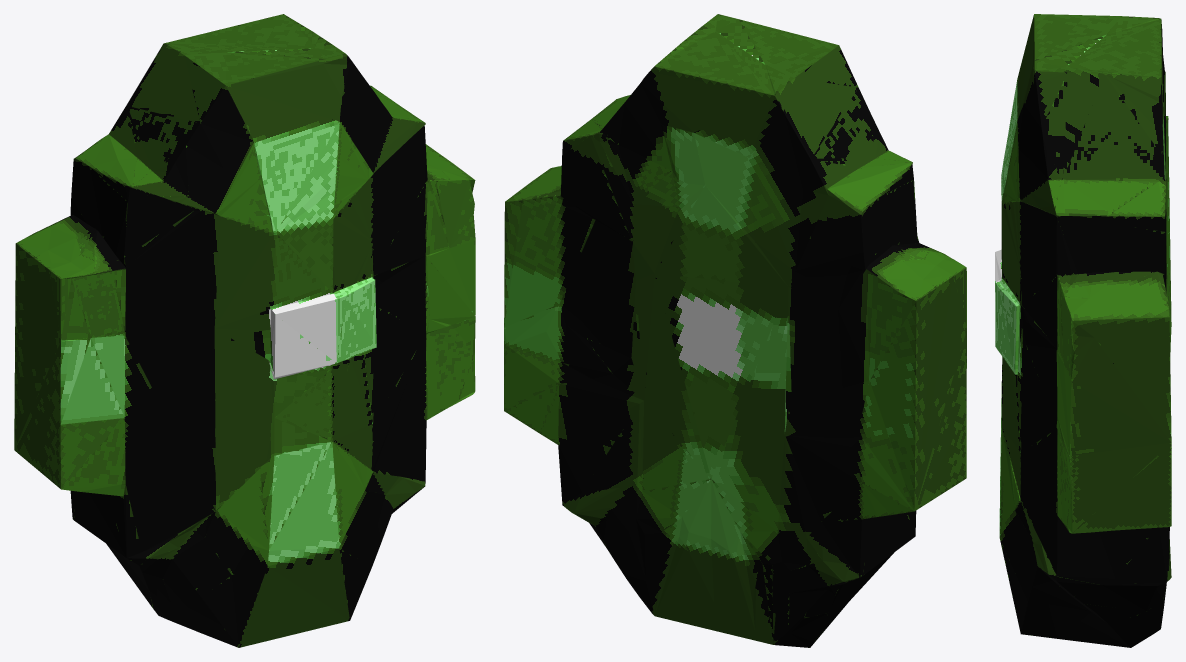
3 renders of one model, left to right at view 1: azimuth 30°, elevation 25°; view 2: azimuth 150°, elevation 25°; view 3: azimuth 270°, elevation 25°, orthographic.
Visible parts, largest first — view 1: OBJ0a7; view 2: OBJ0a7; view 3: OBJ0a7.
Boxes of the visible parts, x1,y1,x2,y2 form: OBJ0a7: [14, 14, 475, 647]; OBJ0a7: [504, 14, 966, 647]; OBJ0a7: [995, 14, 1171, 647].
Size of the model in its own units: 0.149 by 0.1933 by 0.0547.
1 material, 1 textured.
